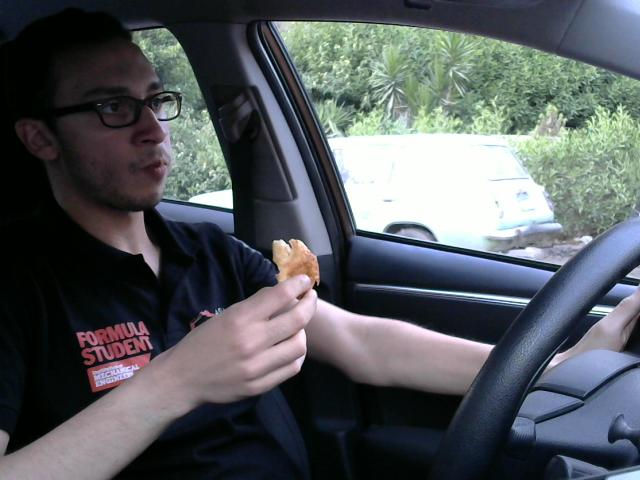Eating: (257, 231, 325, 304)
